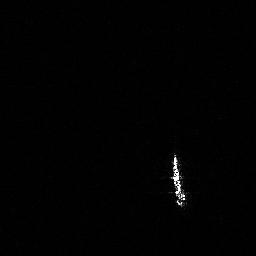ship: (166, 149, 193, 209)
